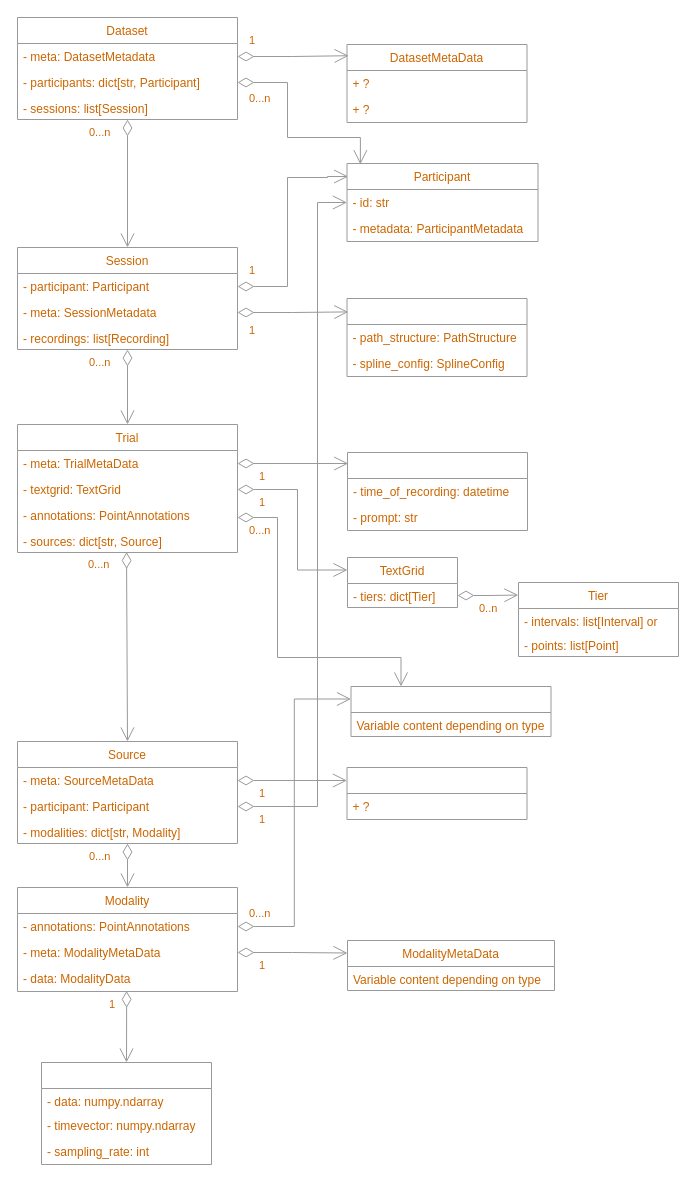
The diagram is 696 pixels wide and 1185 high, and some of its shapes have lost their labels. Each missing label, with the box of its shape:
Annotations: (350, 686, 551, 736)
ModalityData: (40, 1062, 212, 1164)
SessionConfig: (346, 298, 527, 376)
SourceMetaData: (346, 766, 527, 820)
TrialMetaData: (346, 452, 528, 530)
